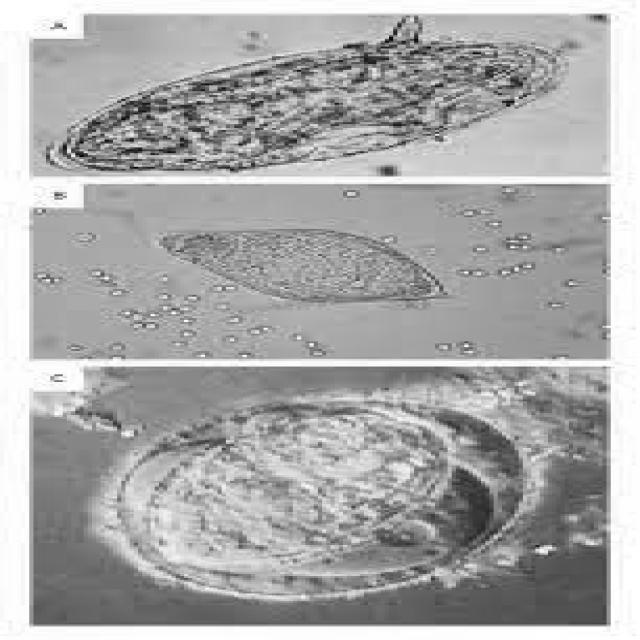Schistosoma: (92, 391, 544, 606), (48, 20, 584, 176), (130, 223, 460, 306)
